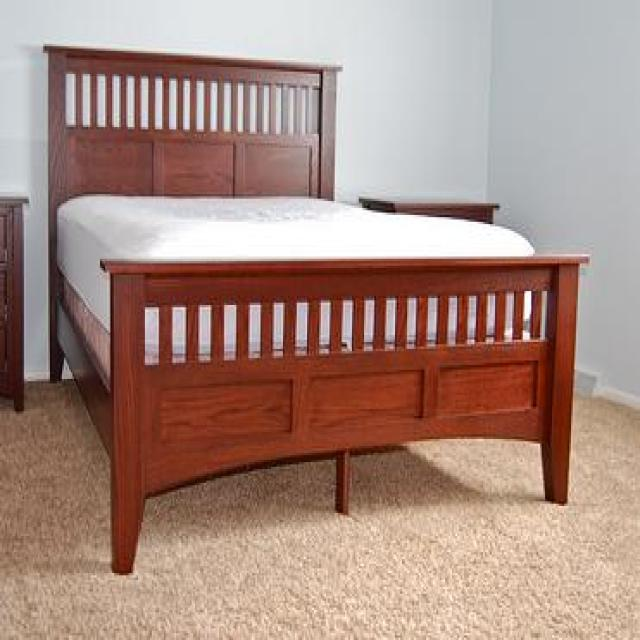bed: (41, 42, 590, 575)
